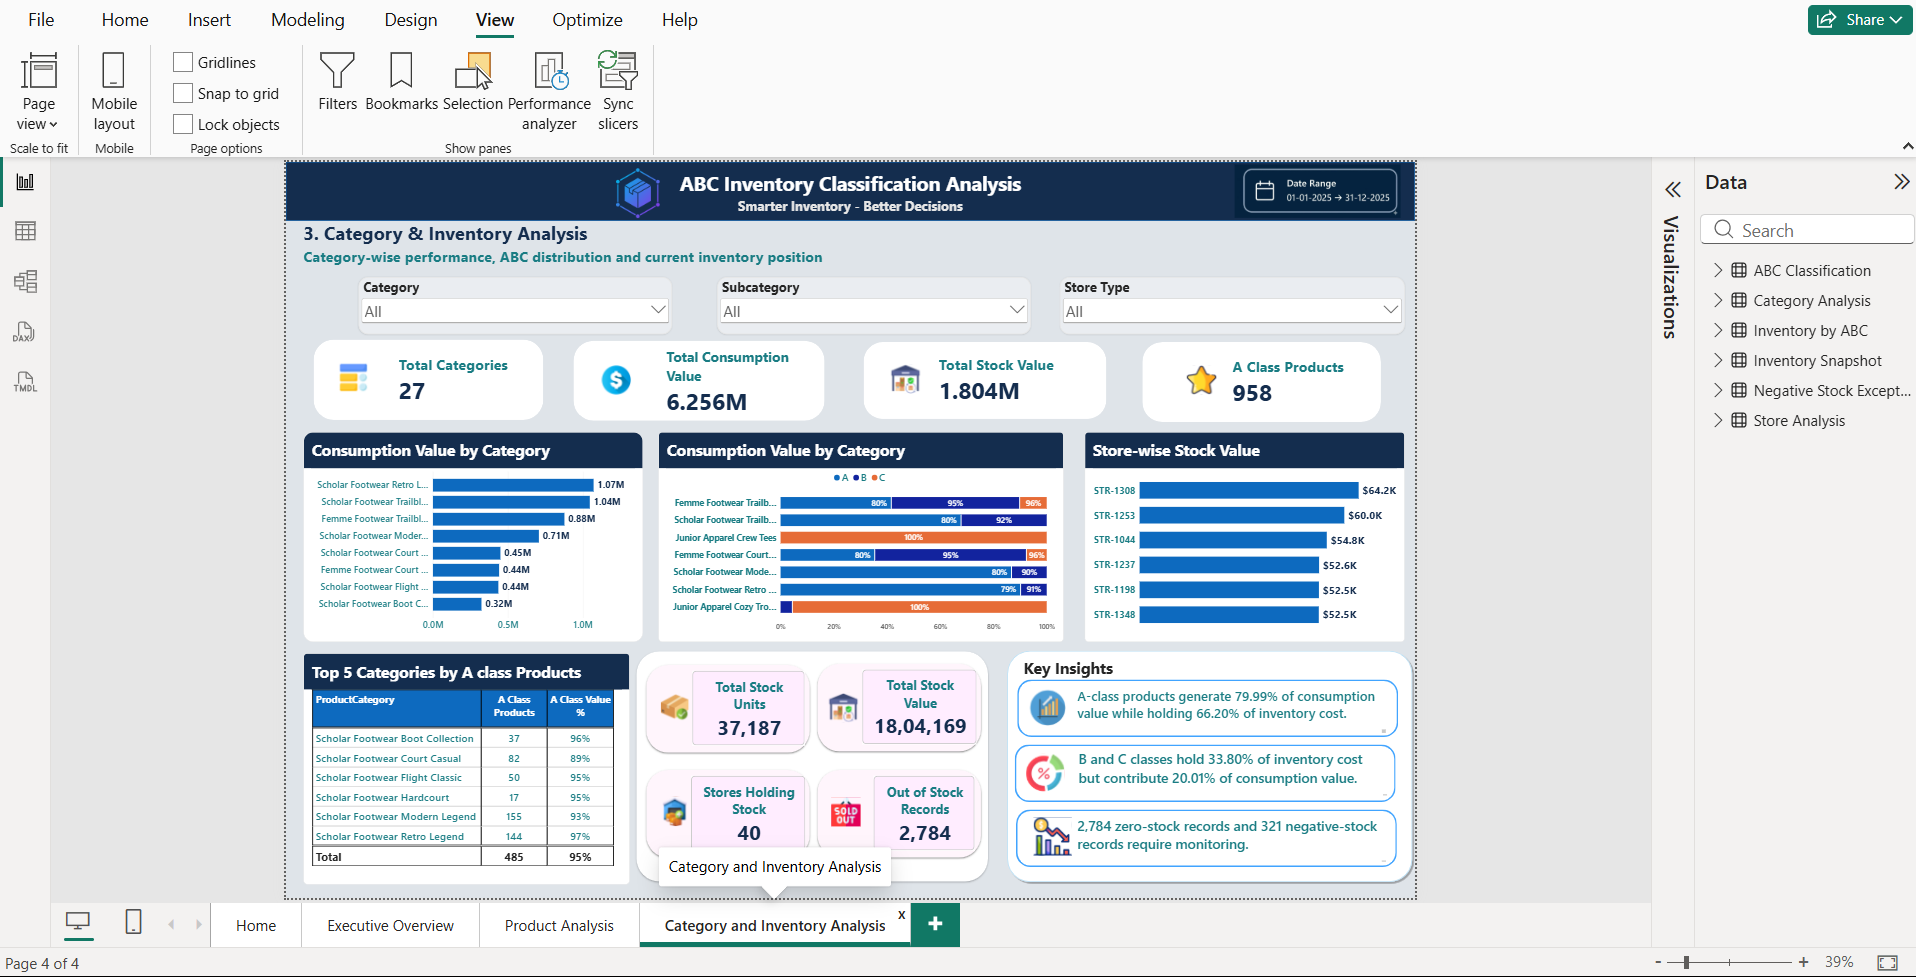

This screenshot's page, from the dashboard's own definition file:
{"tool":"powerbi","page":{"name":"Category and Inventory Analysis","canvas":[2300,1500],"ordinal":3},"visuals":[{"type":"shape","title":"ABC INVENTORY CLASSIFICATION ANALYSIS","box":[0,0,2300.5,119.7],"z":0},{"type":"shape","box":[56,361.8,468.4,164.1],"z":0,"group":"g1"},{"type":"shape","box":[585.9,364.3,511.7,163],"z":0,"group":"g2"},{"type":"shape","box":[1177,366.8,495,157],"z":0,"group":"g3"},{"type":"shape","box":[1745.2,367.2,486.6,163],"z":0,"group":"g4"},{"type":"shape","box":[1076.5,1015.8,344.6,190.6],"z":0,"group":"g6"},{"type":"shape","box":[728.3,1018.5,344.6,190.6],"z":0,"group":"g5"},{"type":"shape","box":[728.3,1233.1,344.6,190.6],"z":0,"group":"g7"},{"type":"shape","box":[1078.5,1233.1,344.6,190.6],"z":0,"group":"g8"},{"type":"actionButton","box":[73.1,393.5,126.4,93.4],"z":1000,"group":"g1"},{"type":"actionButton","box":[622.7,397.1,102.9,93.5],"z":1000,"group":"g2"},{"type":"actionButton","box":[1212.6,397.6,99.5,90.1],"z":1000,"group":"g3"},{"type":"actionButton","box":[1822.6,398.7,88.6,93.5],"z":1000,"group":"g4"},{"type":"shape","box":[1464.9,991,835.6,481.5],"z":1000},{"type":"actionButton","box":[1085.3,1057.2,99.4,101.9],"z":1000,"group":"g6"},{"type":"actionButton","box":[740.1,1060.5,101.9,101.9],"z":1000,"group":"g5"},{"type":"actionButton","box":[1092.3,1273.5,101.9,101.9],"z":1000,"group":"g8"},{"type":"actionButton","box":[740.3,1273.9,83.7,100.7],"z":1000,"group":"g7"},{"type":"cardVisual","fields":{"Data":["Category Analysis.Total Categories"]},"box":[213.2,361.8,302,164.1],"z":2000,"group":"g1"},{"type":"cardVisual","fields":{"Data":["Category Analysis.Total Consumption Value"]},"box":[759.3,368.3,322.6,157.7],"z":2000,"group":"g2"},{"type":"cardVisual","fields":{"Data":["Inventory by ABC.Total Stock Value"]},"box":[1314.9,369.3,312.1,151.9],"z":2000,"group":"g3"},{"type":"cardVisual","fields":{"Data":["ABC Classification.A Class Products"]},"box":[1913.7,369.5,277.9,157.6],"z":2000,"group":"g4"},{"type":"cardVisual","fields":{"Data":["Inventory by ABC.Total Stock Value"]},"box":[1172.1,1034.9,233,152.5],"z":2000,"group":"g6"},{"type":"cardVisual","fields":{"Data":["Inventory Snapshot.Total Stock Units"]},"box":[826.8,1037.6,229.3,152.9],"z":2000,"group":"g5"},{"type":"cardVisual","fields":{"Data":["Inventory Snapshot.Out of Stock Records"]},"box":[1199.3,1250.6,206.4,152.9],"z":2000,"group":"g8"},{"type":"cardVisual","fields":{"Data":["Inventory Snapshot.Stores Holding Stock"]},"box":[823.9,1252.2,233,152.5],"z":2000,"group":"g7"},{"type":"shape","box":[1487.9,1320.6,776.3,117.3],"z":2000},{"type":"textbox","title":"ABC Inventory Classification Analysis","box":[0,15.3,2300.5,104.5],"z":3000},{"type":"shape","box":[1486,1186.6,776.3,117.3],"z":4000},{"type":"textbox","title":"3. Category & Inventory Analysis","box":[35.7,118.9,1222.1,100.8],"z":5000},{"type":"shape","box":[1489.6,1055.9,776.3,117.3],"z":6000},{"type":"group","id":"g1","title":"Group 1","box":[56,361.8,466.2,163],"z":7000},{"type":"group","id":"g2","title":"Group 1","box":[585.9,364.3,519.7,160.5],"z":8000},{"type":"textbox","title":"B and C classes hold 33.80% of inventory cost but contribute 20.01% of consumption value.","box":[1616,1198.5,628.8,93.3],"z":9000},{"type":"textbox","title":"2,784 zero-stock records and 321 negative-stock records require monitoring.","box":[1612.1,1332.5,628.8,93.3],"z":10000},{"type":"group","id":"g3","title":"Group 1","box":[1177,366.8,494.2,155.4],"z":11000},{"type":"group","id":"g4","title":"Group 1","box":[1745.2,367.2,486.6,163],"z":12000},{"type":"clusteredBarChart","title":"Consumption Value by Category","fields":{"Category":["Category Analysis.ProductCategory"],"Y":["Sum(Category Analysis.ConsumptionValue)"]},"box":[36.3,549.4,692.2,428.4],"z":13000},{"type":"slicer","fields":{"Values":["Category Analysis.ProductCategory"]},"box":[147.8,234.4,639.4,117.2],"z":14000},{"type":"shape","box":[708.2,991,728.6,481.5],"z":14000,"group":"g9"},{"type":"slicer","fields":{"Values":["Inventory Snapshot.ProductSubcategory"]},"box":[878.9,234.4,639.4,117.2],"z":15000},{"type":"group","id":"g5","title":"Group 2","box":[728.3,1018.5,344.6,190.6],"z":15000,"group":"g9"},{"type":"slicer","fields":{"Values":["Inventory Snapshot.StoreType"]},"box":[1576.9,234.4,703.1,117.2],"z":16000},{"type":"group","id":"g6","title":"Group 2","box":[1076.5,1015.8,344.6,190.6],"z":16000,"group":"g9"},{"type":"hundredPercentStackedBarChart","title":"Consumption Value by Category","fields":{"Category":["ABC Classification.ProductCategory"],"Series":["ABC Classification.ABCClass"],"Y":["ABC Classification.Product Count"]},"box":[759.2,550.3,825.4,428],"z":17000},{"type":"group","id":"g7","title":"Group 2","box":[728.3,1233.1,344.2,189.8],"z":17000,"group":"g9"},{"type":"clusteredBarChart","title":"Store-wise Stock Value","fields":{"Category":["Inventory Snapshot.Store"],"Y":["Inventory Snapshot.Store Stock Value"]},"box":[1627.9,550.3,652.2,428],"z":18000},{"type":"group","id":"g8","title":"Group 2","box":[1078.5,1233.1,344.6,190.6],"z":18000,"group":"g9"},{"type":"tableEx","title":"Top 5 Categories by A class Products","fields":{"Values":["ABC Classification.ProductCategory","ABC Classification.A Class Products","ABC Classification.A Class Value %"]},"box":[35.7,1001.2,664.9,471.3],"z":19000},{"type":"group","id":"g9","title":"Group 3","box":[708.2,991,728.6,481.5],"z":20000},{"type":"textbox","title":"Key Insights","box":[1503.1,1008.8,486.7,48.9],"z":21000},{"type":"textbox","title":"A-class products generate 79.99% of consumption value while holding 66.20% of inventory cost.","box":[1612.4,1070.8,628.8,93.3],"z":22000},{"type":"actionButton","box":[1490.3,1059.8,126.7,105.6],"z":23000},{"type":"actionButton","box":[1485.2,1192.3,126.7,105.6],"z":24000},{"type":"actionButton","box":[1500.5,1322.2,126.7,105.6],"z":25000},{"type":"image","box":[1928.5,5.1,348.5,108.9],"z":26000},{"type":"image","box":[647.1,12.7,140.1,101.9],"z":26001}]}

Visuals, with their boxes on the page's 2300x1500 design canvas (x1, y1, x2, y2). These are canvas units, not pixel positions in the 1916x977 screenshot, which may show the page scaled, cropped or inside an application window:
"ABC INVENTORY CLASSIFICATION ANALYSIS" shape: pyautogui.locateOnScreen(0, 0, 2300, 120)
shape: pyautogui.locateOnScreen(56, 362, 524, 526)
shape: pyautogui.locateOnScreen(586, 364, 1098, 527)
shape: pyautogui.locateOnScreen(1177, 367, 1672, 524)
shape: pyautogui.locateOnScreen(1745, 367, 2232, 530)
shape: pyautogui.locateOnScreen(1076, 1016, 1421, 1206)
shape: pyautogui.locateOnScreen(728, 1018, 1073, 1209)
shape: pyautogui.locateOnScreen(728, 1233, 1073, 1424)
shape: pyautogui.locateOnScreen(1078, 1233, 1423, 1424)
actionButton: pyautogui.locateOnScreen(73, 394, 200, 487)
actionButton: pyautogui.locateOnScreen(623, 397, 726, 491)
actionButton: pyautogui.locateOnScreen(1213, 398, 1312, 488)
actionButton: pyautogui.locateOnScreen(1823, 399, 1911, 492)
shape: pyautogui.locateOnScreen(1465, 991, 2300, 1472)
actionButton: pyautogui.locateOnScreen(1085, 1057, 1185, 1159)
actionButton: pyautogui.locateOnScreen(740, 1060, 842, 1162)
actionButton: pyautogui.locateOnScreen(1092, 1274, 1194, 1375)
actionButton: pyautogui.locateOnScreen(740, 1274, 824, 1375)
cardVisual - Category Analysis.Total Categories: pyautogui.locateOnScreen(213, 362, 515, 526)
cardVisual - Category Analysis.Total Consumption Value: pyautogui.locateOnScreen(759, 368, 1082, 526)
cardVisual - Inventory by ABC.Total Stock Value: pyautogui.locateOnScreen(1315, 369, 1627, 521)
cardVisual - ABC Classification.A Class Products: pyautogui.locateOnScreen(1914, 370, 2192, 527)
cardVisual - Inventory by ABC.Total Stock Value: pyautogui.locateOnScreen(1172, 1035, 1405, 1187)
cardVisual - Inventory Snapshot.Total Stock Units: pyautogui.locateOnScreen(827, 1038, 1056, 1190)
cardVisual - Inventory Snapshot.Out of Stock Records: pyautogui.locateOnScreen(1199, 1251, 1406, 1404)
cardVisual - Inventory Snapshot.Stores Holding Stock: pyautogui.locateOnScreen(824, 1252, 1057, 1405)
shape: pyautogui.locateOnScreen(1488, 1321, 2264, 1438)
"ABC Inventory Classification Analysis" textbox: pyautogui.locateOnScreen(0, 15, 2300, 120)
shape: pyautogui.locateOnScreen(1486, 1187, 2262, 1304)
"3. Category & Inventory Analysis" textbox: pyautogui.locateOnScreen(36, 119, 1258, 220)
shape: pyautogui.locateOnScreen(1490, 1056, 2266, 1173)
"Group 1" group: pyautogui.locateOnScreen(56, 362, 522, 525)
"Group 1" group: pyautogui.locateOnScreen(586, 364, 1106, 525)
"B and C classes hold 33.80% of inventory cost but contribute 20.01% of consumption value." textbox: pyautogui.locateOnScreen(1616, 1198, 2245, 1292)
"2,784 zero-stock records and 321 negative-stock records require monitoring." textbox: pyautogui.locateOnScreen(1612, 1332, 2241, 1426)
"Group 1" group: pyautogui.locateOnScreen(1177, 367, 1671, 522)
"Group 1" group: pyautogui.locateOnScreen(1745, 367, 2232, 530)
"Consumption Value by Category" clusteredBarChart: pyautogui.locateOnScreen(36, 549, 728, 978)
slicer - Category Analysis.ProductCategory: pyautogui.locateOnScreen(148, 234, 787, 352)
shape: pyautogui.locateOnScreen(708, 991, 1437, 1472)
slicer - Inventory Snapshot.ProductSubcategory: pyautogui.locateOnScreen(879, 234, 1518, 352)
"Group 2" group: pyautogui.locateOnScreen(728, 1018, 1073, 1209)
slicer - Inventory Snapshot.StoreType: pyautogui.locateOnScreen(1577, 234, 2280, 352)
"Group 2" group: pyautogui.locateOnScreen(1076, 1016, 1421, 1206)
"Consumption Value by Category" hundredPercentStackedBarChart: pyautogui.locateOnScreen(759, 550, 1585, 978)
"Group 2" group: pyautogui.locateOnScreen(728, 1233, 1072, 1423)
"Store-wise Stock Value" clusteredBarChart: pyautogui.locateOnScreen(1628, 550, 2280, 978)
"Group 2" group: pyautogui.locateOnScreen(1078, 1233, 1423, 1424)
"Top 5 Categories by A class Products" tableEx: pyautogui.locateOnScreen(36, 1001, 701, 1472)
"Group 3" group: pyautogui.locateOnScreen(708, 991, 1437, 1472)
"Key Insights" textbox: pyautogui.locateOnScreen(1503, 1009, 1990, 1058)
"A-class products generate 79.99% of consumption value while holding 66.20% of inventory cost." textbox: pyautogui.locateOnScreen(1612, 1071, 2241, 1164)
actionButton: pyautogui.locateOnScreen(1490, 1060, 1617, 1165)
actionButton: pyautogui.locateOnScreen(1485, 1192, 1612, 1298)
actionButton: pyautogui.locateOnScreen(1500, 1322, 1627, 1428)
image: pyautogui.locateOnScreen(1928, 5, 2277, 114)
image: pyautogui.locateOnScreen(647, 13, 787, 115)
